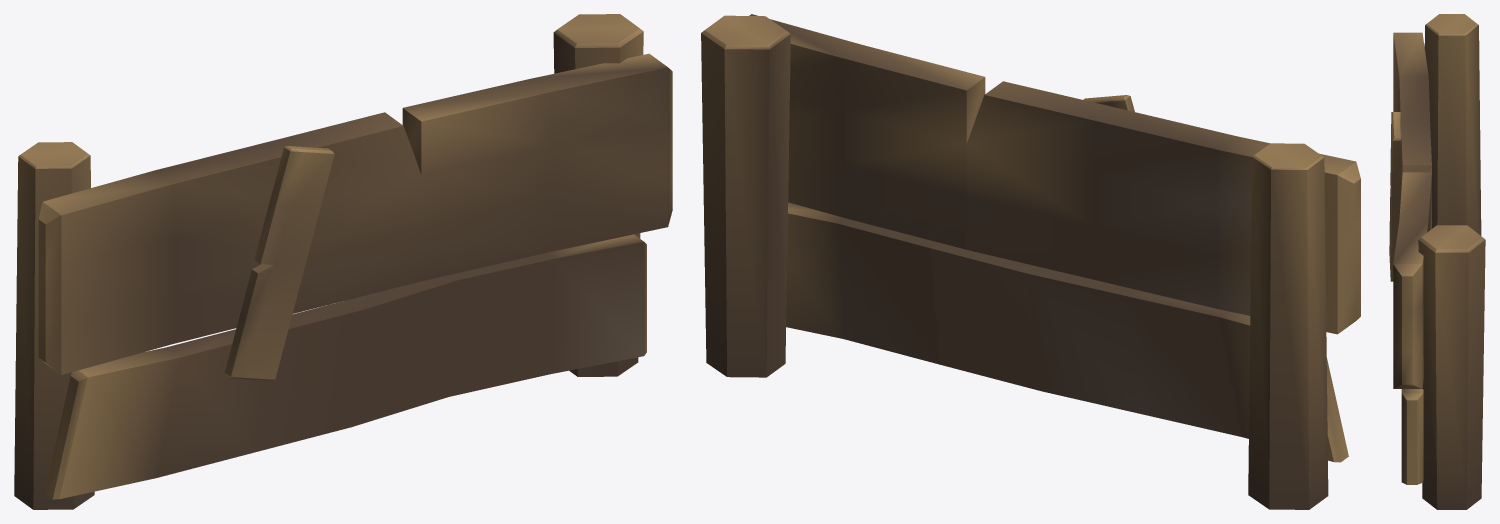
The model's file is Fences02.fbx.
The picture shows the model from 3 angles, left to right: view 1: azimuth 30°, elevation 25°; view 2: azimuth 150°, elevation 25°; view 3: azimuth 270°, elevation 25°; orthographic projection. The views are drawn at different scales.
Parts seen in each view (by area): view 1: Fances02_LOD0; view 2: Fances02_LOD0; view 3: Fances02_LOD0.
Boxes of the visible parts, box(x1,y1,x2,y2) form: Fances02_LOD0: box(14, 14, 672, 509); Fances02_LOD0: box(701, 14, 1360, 509); Fances02_LOD0: box(1389, 14, 1485, 509).
Size of what is drawn, in the model's own units: 173 by 90.09 by 29.44.
